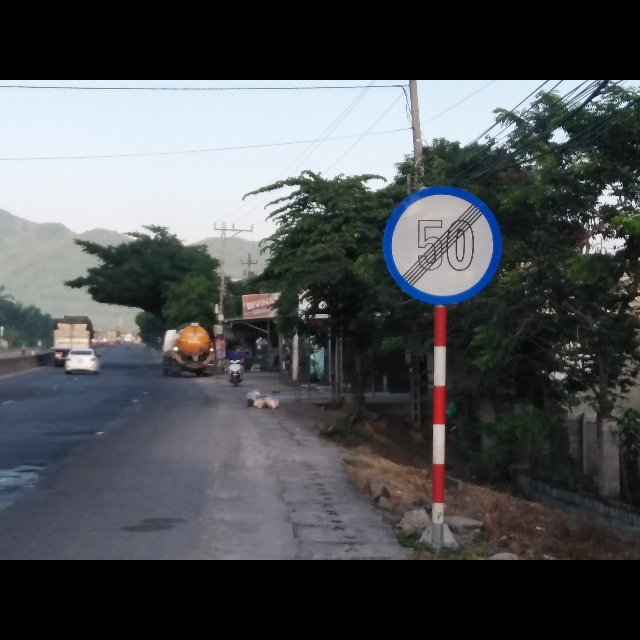Hết hạn chế tốc độ tối đa 50km/h: (380, 184, 505, 308)
